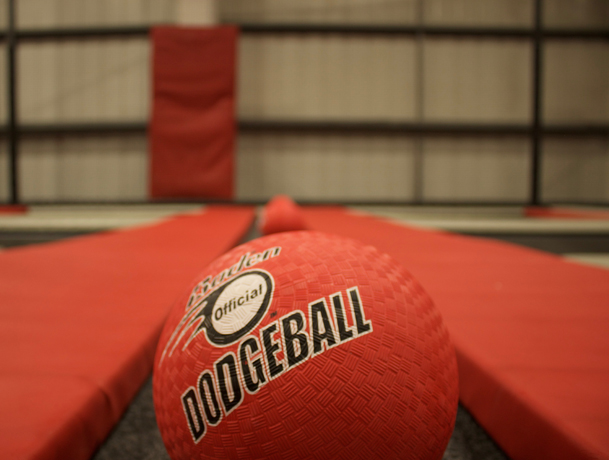red ball: (152, 230, 463, 457)
